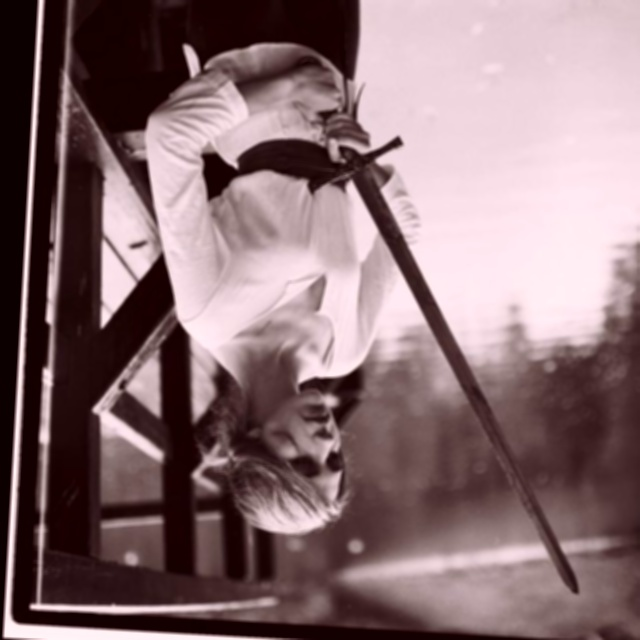Sharp-Object: (287, 70, 613, 607)
